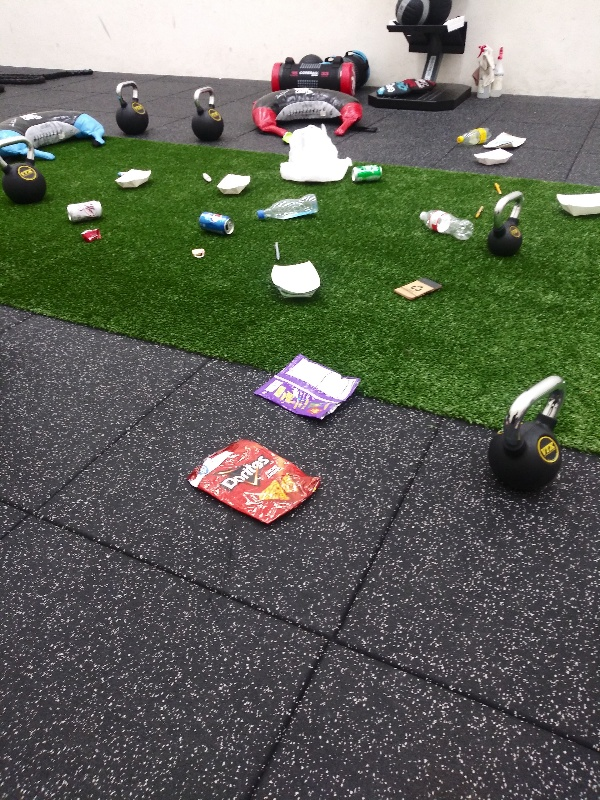bag: (187, 435, 324, 530), (256, 351, 365, 419), (482, 128, 535, 149)
bottle: (254, 189, 321, 225), (417, 206, 477, 245), (452, 125, 492, 149)
can: (65, 196, 105, 229), (193, 207, 236, 236), (350, 161, 385, 185)
plate: (270, 258, 328, 301), (551, 191, 600, 220), (215, 171, 256, 200), (472, 144, 514, 171), (114, 165, 151, 192)
